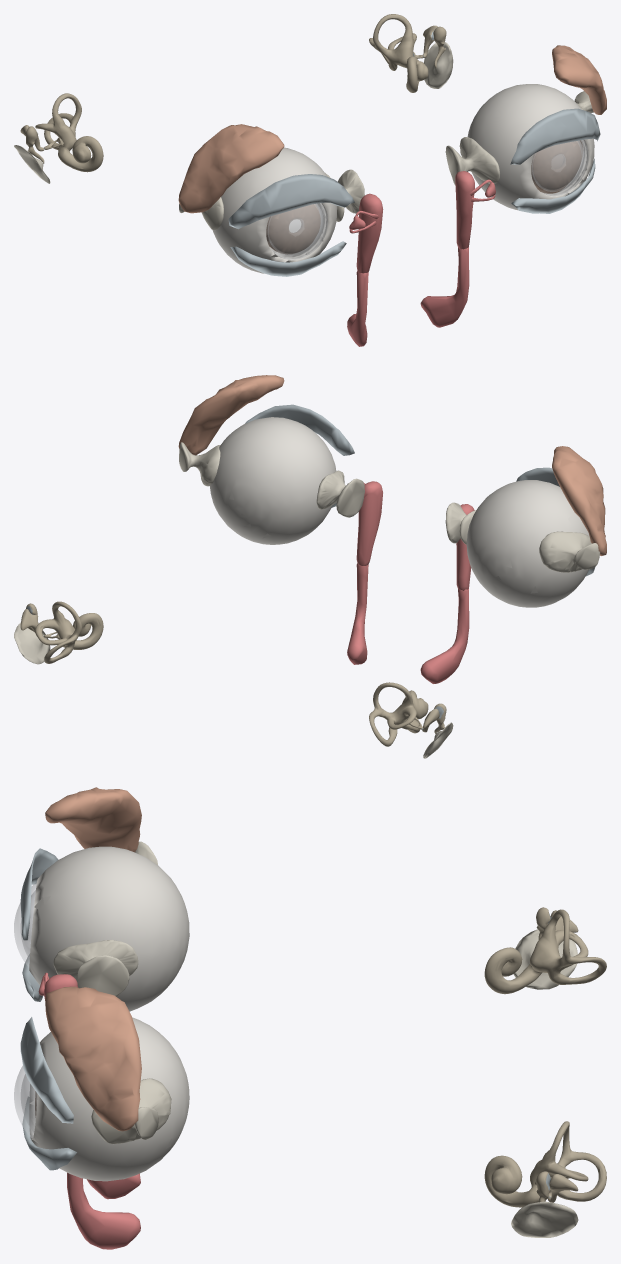
Rendered from adult_male.sensory.LOD1.glb.
3 renders of one model, top to bottom at view 1: azimuth 30°, elevation 25°; view 2: azimuth 150°, elevation 25°; view 3: azimuth 270°, elevation 25°, orthographic. The views are drawn at different scales.
Visible parts, largest first — view 1: ADULT.MALE.SENSORY.SCLERA.L, ADULT.MALE.SENSORY.LACRIMAL_GLAND.R, ADULT.MALE.SENSORY.SCLERA.R, ADULT.MALE.SENSORY.SUPERIOR_TARSUS.R, ADULT.MALE.SENSORY.CORNEA.R, ADULT.MALE.SENSORY.SUPERIOR_TARSUS.L, ADULT.MALE.SENSORY.CORNEA.L, ADULT.MALE.SENSORY.ANTERIOR_CHAMBER_OF_EYEBALL.R, ADULT.MALE.SENSORY.ANTERIOR_CHAMBER_OF_EYEBALL.L, ADULT.MALE.SENSORY.LACRIMAL_GLAND.L, ADULT.MALE.SENSORY.IRIS.R, ADULT.MALE.SENSORY.SUSPENSORY_LIGAMENT_OF_EYEBALL.L (+14 smaller); view 2: ADULT.MALE.SENSORY.SCLERA.L, ADULT.MALE.SENSORY.SCLERA.R, ADULT.MALE.SENSORY.LACRIMAL_GLAND.L, ADULT.MALE.SENSORY.LACRIMAL_GLAND.R, ADULT.MALE.SENSORY.SUSPENSORY_LIGAMENT_OF_EYEBALL.R, ADULT.MALE.SENSORY.SUSPENSORY_LIGAMENT_OF_EYEBALL.L, ADULT.MALE.SENSORY.NASOLACRIMAL_DUCT.R, ADULT.MALE.SENSORY.SUPERIOR_TARSUS.L, ADULT.MALE.SENSORY.LACRIMAL_SAC.L, ADULT.MALE.SENSORY.VESTIBULE.L, ADULT.MALE.SENSORY.VESTIBULE.R, ADULT.MALE.SENSORY.NASOLACRIMAL_DUCT.L (+3 smaller); view 3: ADULT.MALE.SENSORY.SCLERA.R, ADULT.MALE.SENSORY.SCLERA.L, ADULT.MALE.SENSORY.LACRIMAL_GLAND.L, ADULT.MALE.SENSORY.LACRIMAL_GLAND.R, ADULT.MALE.SENSORY.SUSPENSORY_LIGAMENT_OF_EYEBALL.R, ADULT.MALE.SENSORY.VESTIBULE.R, ADULT.MALE.SENSORY.NASOLACRIMAL_DUCT.L, ADULT.MALE.SENSORY.SUSPENSORY_LIGAMENT_OF_EYEBALL.L, ADULT.MALE.SENSORY.VESTIBULE.L, ADULT.MALE.SENSORY.SUPERIOR_TARSUS.L, ADULT.MALE.SENSORY.TYMPANIC_MEMBRANE.L, ADULT.MALE.SENSORY.COCHLEA.L (+7 smaller).
Part boxes in pixels (x1,y1,x2,y2): ADULT.MALE.SENSORY.SCLERA.L: [467, 84, 594, 210]; ADULT.MALE.SENSORY.LACRIMAL_GLAND.R: [178, 124, 284, 213]; ADULT.MALE.SENSORY.SCLERA.R: [212, 147, 337, 273]; ADULT.MALE.SENSORY.SUPERIOR_TARSUS.R: [228, 174, 354, 229]; ADULT.MALE.SENSORY.CORNEA.R: [266, 203, 327, 259]; ADULT.MALE.SENSORY.SUPERIOR_TARSUS.L: [510, 108, 600, 164]; ADULT.MALE.SENSORY.CORNEA.L: [531, 140, 588, 195]; ADULT.MALE.SENSORY.ANTERIOR_CHAMBER_OF_EYEBALL.R: [268, 204, 323, 255]; ADULT.MALE.SENSORY.ANTERIOR_CHAMBER_OF_EYEBALL.L: [532, 141, 583, 191]; ADULT.MALE.SENSORY.LACRIMAL_GLAND.L: [552, 45, 606, 114]; ADULT.MALE.SENSORY.IRIS.R: [266, 204, 320, 254]; ADULT.MALE.SENSORY.SUSPENSORY_LIGAMENT_OF_EYEBALL.L: [445, 91, 593, 185]; ADULT.MALE.SENSORY.SCLERA.L: [209, 417, 336, 544]; ADULT.MALE.SENSORY.SCLERA.R: [466, 480, 589, 607]; ADULT.MALE.SENSORY.LACRIMAL_GLAND.L: [178, 375, 284, 455]; ADULT.MALE.SENSORY.LACRIMAL_GLAND.R: [552, 446, 606, 555]; ADULT.MALE.SENSORY.SUSPENSORY_LIGAMENT_OF_EYEBALL.R: [445, 502, 600, 572]; ADULT.MALE.SENSORY.SUSPENSORY_LIGAMENT_OF_EYEBALL.L: [179, 442, 364, 517]; ADULT.MALE.SENSORY.NASOLACRIMAL_DUCT.R: [420, 588, 469, 683]; ADULT.MALE.SENSORY.SUPERIOR_TARSUS.L: [245, 404, 354, 455]; ADULT.MALE.SENSORY.LACRIMAL_SAC.L: [356, 481, 382, 565]; ADULT.MALE.SENSORY.VESTIBULE.L: [35, 601, 81, 663]; ADULT.MALE.SENSORY.VESTIBULE.R: [369, 682, 416, 746]; ADULT.MALE.SENSORY.NASOLACRIMAL_DUCT.L: [347, 563, 368, 664]; ADULT.MALE.SENSORY.SCLERA.R: [29, 846, 189, 1011]; ADULT.MALE.SENSORY.SCLERA.L: [29, 1017, 189, 1181]; ADULT.MALE.SENSORY.LACRIMAL_GLAND.L: [45, 986, 141, 1131]; ADULT.MALE.SENSORY.LACRIMAL_GLAND.R: [45, 787, 141, 852]; ADULT.MALE.SENSORY.SUSPENSORY_LIGAMENT_OF_EYEBALL.R: [53, 841, 157, 996]; ADULT.MALE.SENSORY.VESTIBULE.R: [530, 909, 606, 984]; ADULT.MALE.SENSORY.NASOLACRIMAL_DUCT.L: [67, 1172, 140, 1249]; ADULT.MALE.SENSORY.SUSPENSORY_LIGAMENT_OF_EYEBALL.L: [91, 1078, 171, 1143]; ADULT.MALE.SENSORY.VESTIBULE.L: [530, 1121, 606, 1201]; ADULT.MALE.SENSORY.SUPERIOR_TARSUS.L: [20, 1017, 73, 1123]; ADULT.MALE.SENSORY.TYMPANIC_MEMBRANE.L: [511, 1201, 578, 1237]; ADULT.MALE.SENSORY.COCHLEA.L: [484, 1155, 539, 1207].
Bounding box in the file's own units: 0.1012 × 0.0571 × 0.0923.
